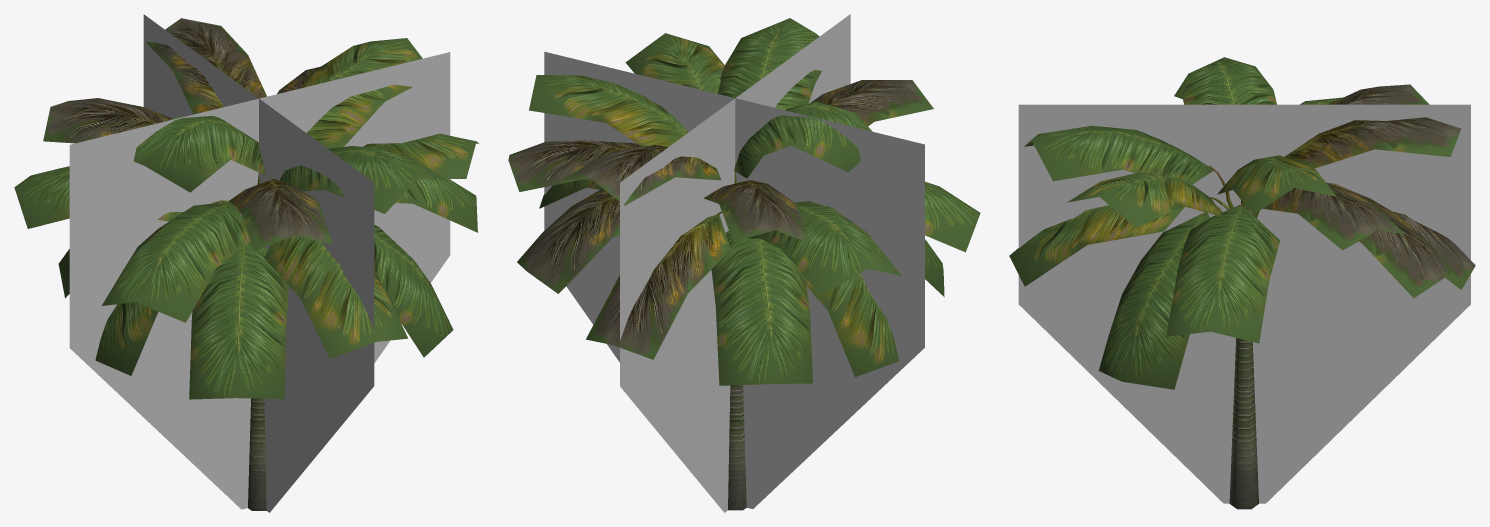
File: Arcea1.fbx
3 views of the same model, side by side, from view 1: azimuth 30°, elevation 25°; view 2: azimuth 150°, elevation 25°; view 3: azimuth 270°, elevation 25° (orthographic).
Parts seen in each view (by area): view 1: LOD0, Billboard; view 2: LOD0, Billboard; view 3: Billboard, LOD0.
Part boxes in pixels (bbox=[...]): LOD0: bbox=[14, 18, 478, 510]; Billboard: bbox=[69, 14, 450, 512]; LOD0: bbox=[508, 18, 980, 510]; Billboard: bbox=[544, 14, 924, 512]; Billboard: bbox=[1018, 104, 1470, 503]; LOD0: bbox=[1009, 57, 1475, 509].
Size of what is drawn, in the model's own units: 313 by 307 by 323.
